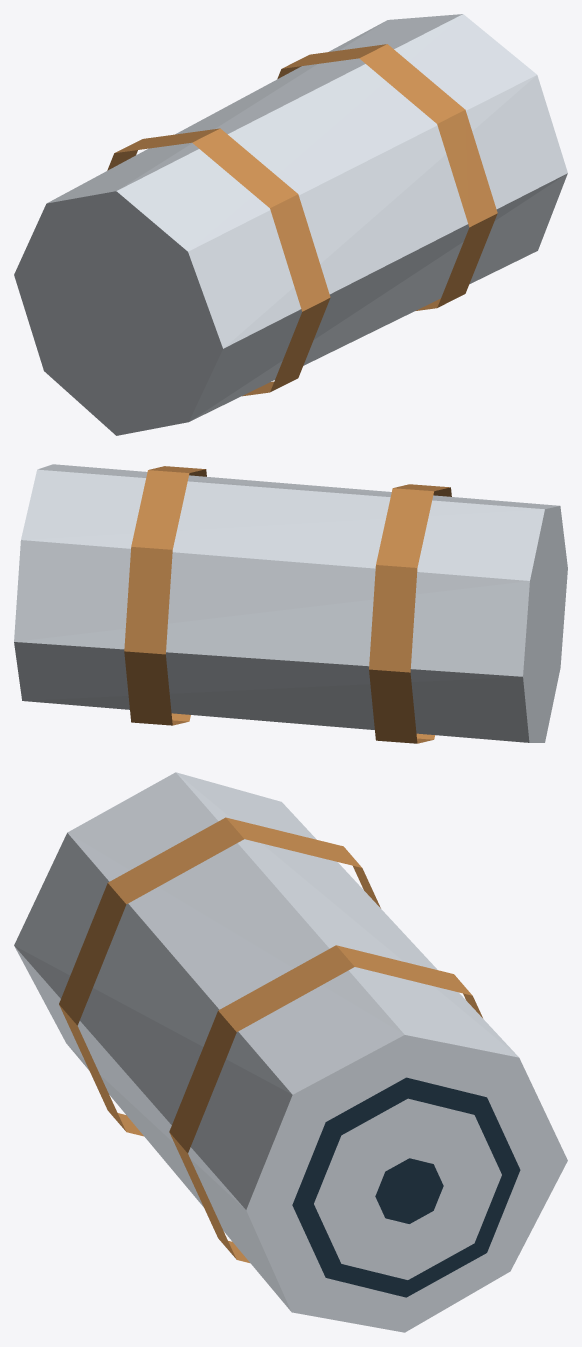
File: HideRoll.obj
The picture shows the model from 3 angles, top to bottom: view 1: azimuth 30°, elevation 25°; view 2: azimuth 150°, elevation 25°; view 3: azimuth 270°, elevation 25°; orthographic projection. The views are drawn at different scales.
Bounding box in the file's own units: 2.44 × 1.17 × 1.82.
